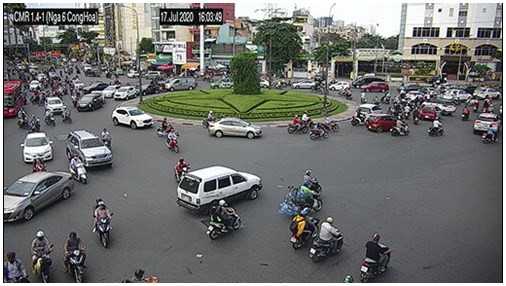xe_buyt: (3, 80, 21, 117)
xe_hoi: (177, 167, 263, 213), (4, 172, 73, 220), (207, 118, 263, 139), (113, 107, 156, 132), (368, 113, 404, 133), (472, 113, 501, 132), (75, 94, 103, 112), (163, 77, 196, 90), (473, 86, 505, 99), (422, 101, 455, 113), (44, 96, 65, 113), (134, 82, 159, 96), (361, 81, 390, 93), (352, 77, 383, 88), (113, 85, 135, 100), (83, 82, 106, 94), (416, 105, 435, 119), (103, 84, 118, 101), (293, 78, 314, 90), (211, 78, 236, 88), (452, 88, 472, 100), (328, 81, 350, 90), (255, 76, 270, 87)
xe_may: (360, 232, 390, 283), (310, 216, 342, 261), (206, 201, 242, 239), (288, 208, 319, 251), (29, 231, 53, 283), (64, 232, 88, 283), (285, 182, 323, 214), (93, 197, 109, 248), (3, 252, 28, 283), (68, 153, 89, 186), (301, 169, 322, 195), (287, 114, 308, 135), (155, 118, 174, 139), (322, 113, 341, 134), (389, 116, 408, 137), (426, 116, 445, 136), (309, 122, 330, 140), (173, 157, 189, 179), (481, 124, 497, 144), (101, 126, 113, 152), (165, 130, 178, 153), (351, 108, 368, 125), (202, 110, 217, 126), (302, 111, 316, 127), (28, 115, 42, 131), (61, 105, 73, 121), (15, 109, 26, 126), (32, 158, 47, 170), (45, 110, 55, 127), (412, 107, 421, 123), (394, 102, 403, 117), (471, 96, 480, 111), (461, 106, 471, 119), (31, 89, 39, 105), (496, 102, 504, 115), (482, 100, 489, 114), (405, 103, 411, 118), (488, 103, 493, 112)
